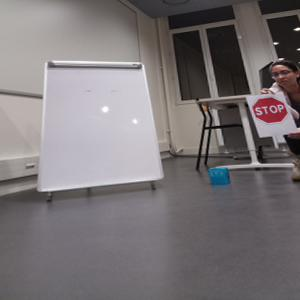stop: (253, 97, 287, 123)
